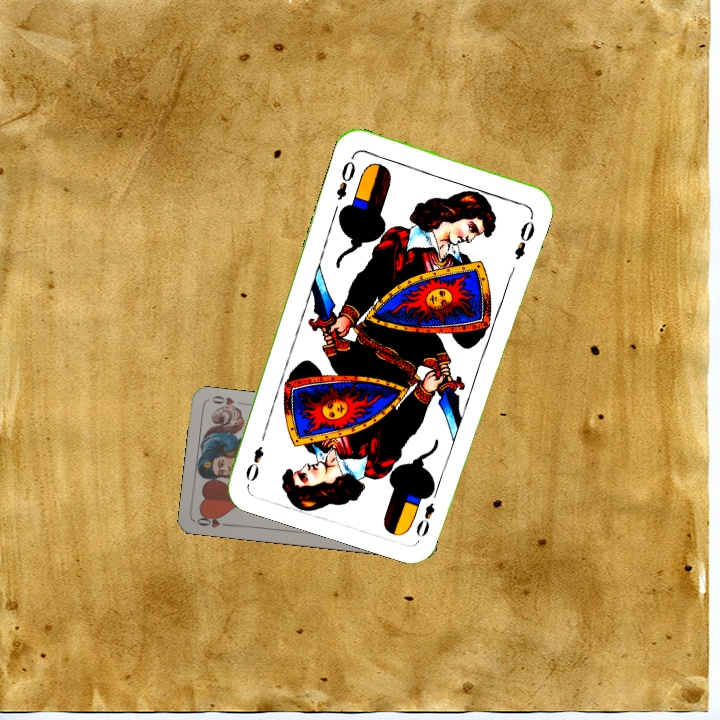EO: (332, 157, 358, 203), (412, 499, 437, 540)
HO: (193, 510, 233, 530)
